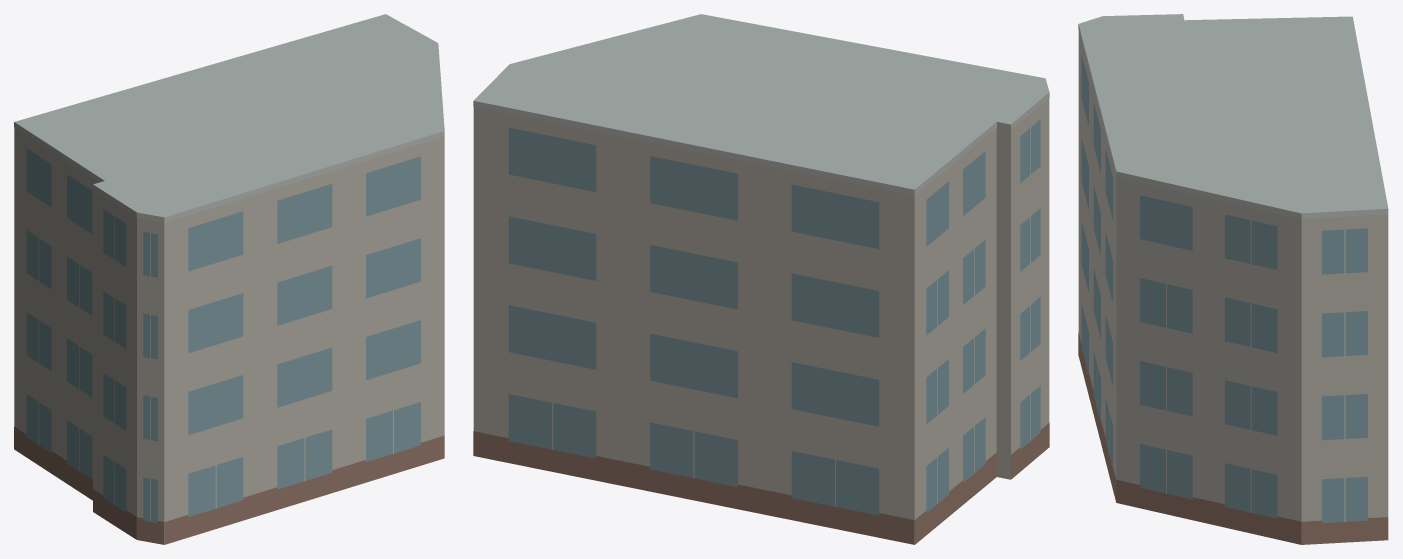
The model's file is survey-upis-32823486.glb.
The picture shows the model from 3 angles, left to right: view 1: azimuth 30°, elevation 25°; view 2: azimuth 150°, elevation 25°; view 3: azimuth 270°, elevation 25°; orthographic projection. The views are drawn at different scales.
Parts seen in each view (by area): view 1: survey-upis-32823486.tmp; view 2: survey-upis-32823486.tmp; view 3: survey-upis-32823486.tmp.
Part boxes in pixels (bbox=[...]): survey-upis-32823486.tmp: bbox=[14, 14, 444, 544]; survey-upis-32823486.tmp: bbox=[473, 14, 1049, 544]; survey-upis-32823486.tmp: bbox=[1078, 14, 1388, 544].
Size of the model in its own units: 18.85 by 14.6 by 12.38.
